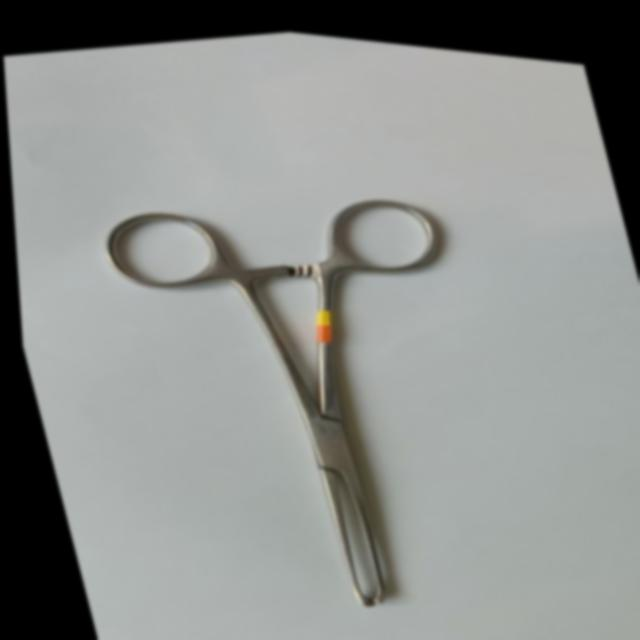AllisForcep: (86, 149, 529, 640)
